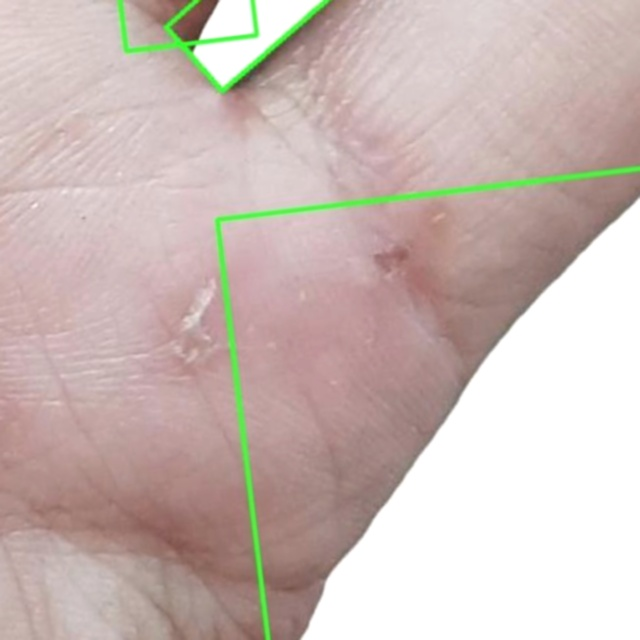Scabies: (216, 169, 639, 639)
